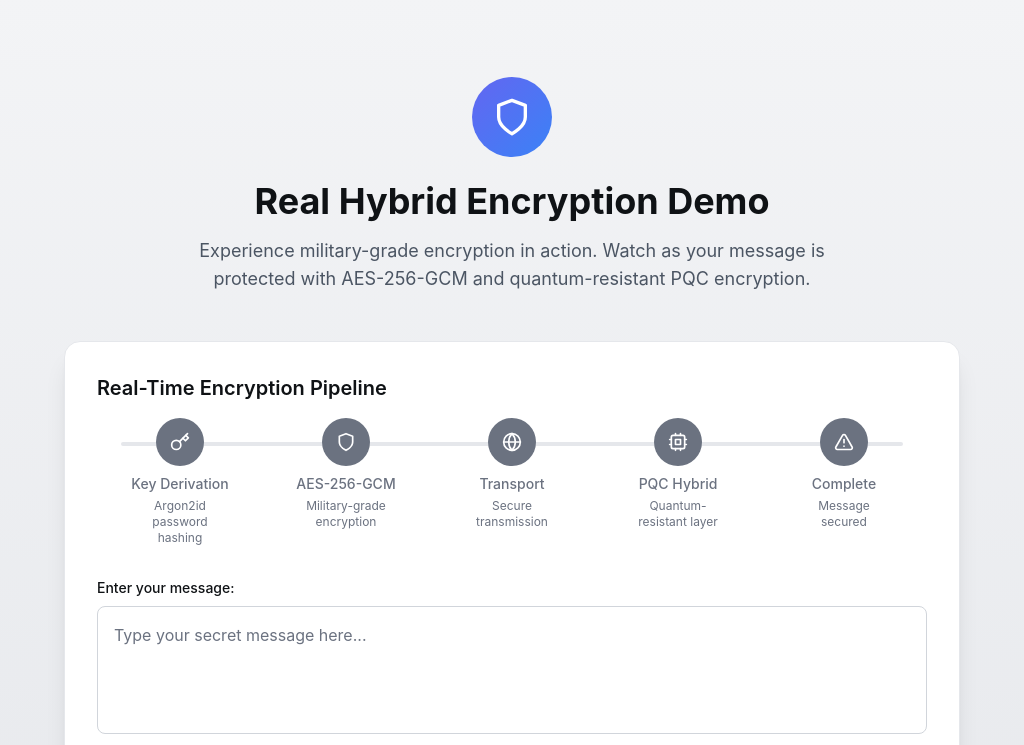
Test: EncryptionDemo Integration › should handle encryption flow
The width and height of the screenshot is (1024, 745).
In the text box with placeholder "Type your secret message here...": (512, 670) [97,606,927,734], type "Hello, World!"
(page scrolled)
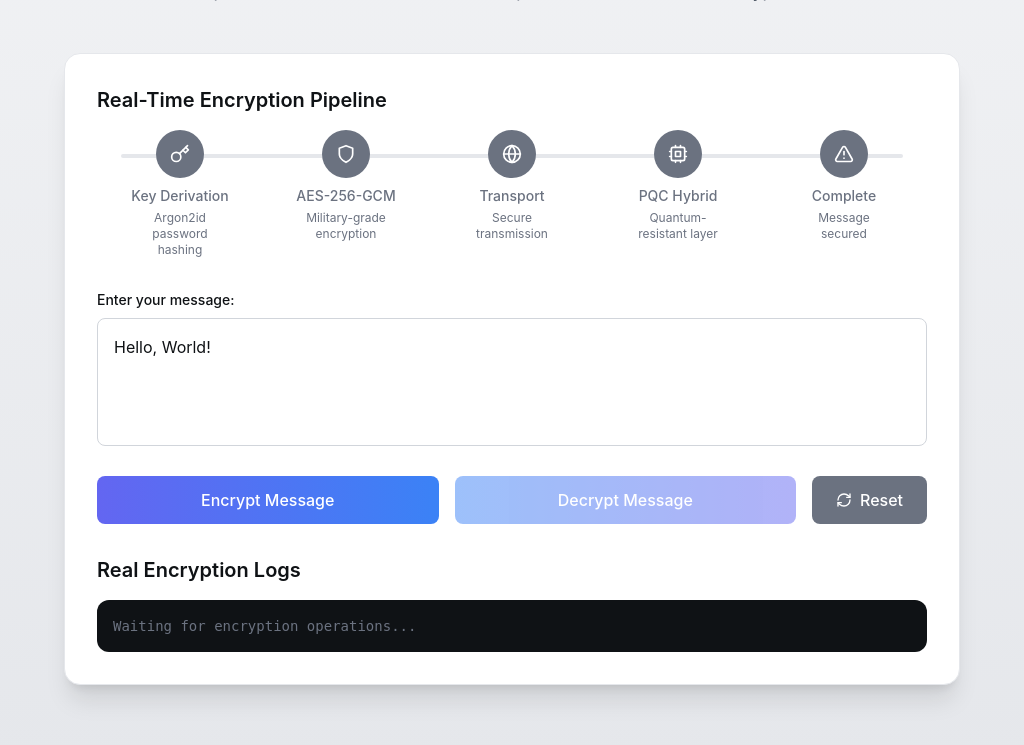
Click the button "Encrypt Message": (268, 500) [97,476,438,524]
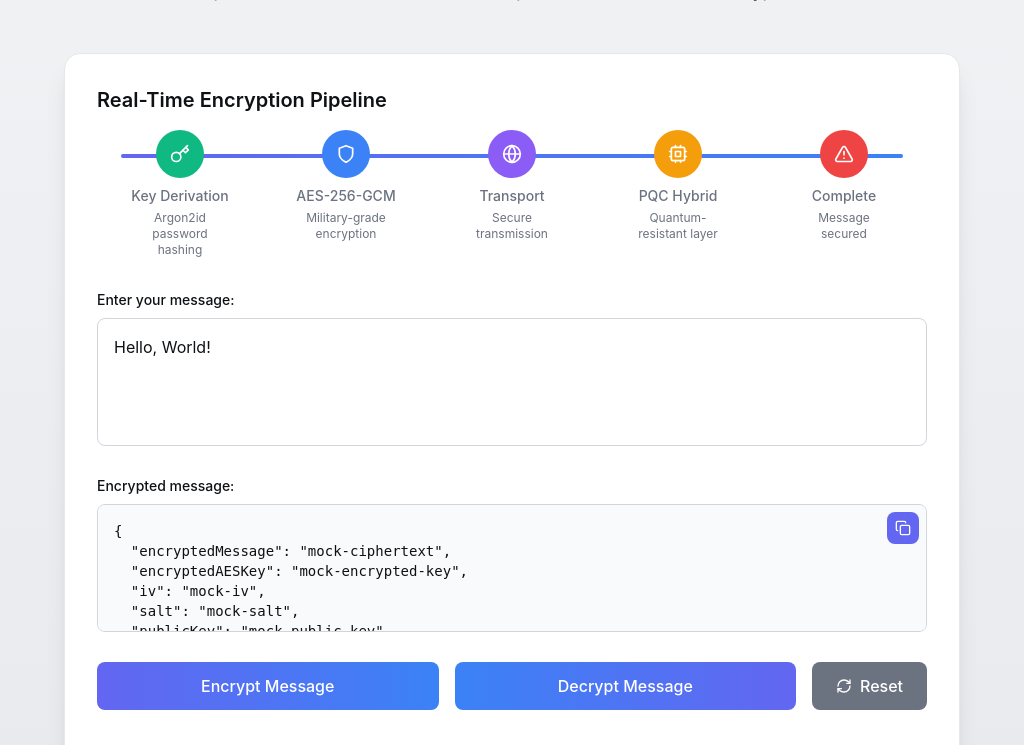
Expected: the text box showing "encryptedMessage" below "Encrypted message:" is shown, [97,504,927,632]
